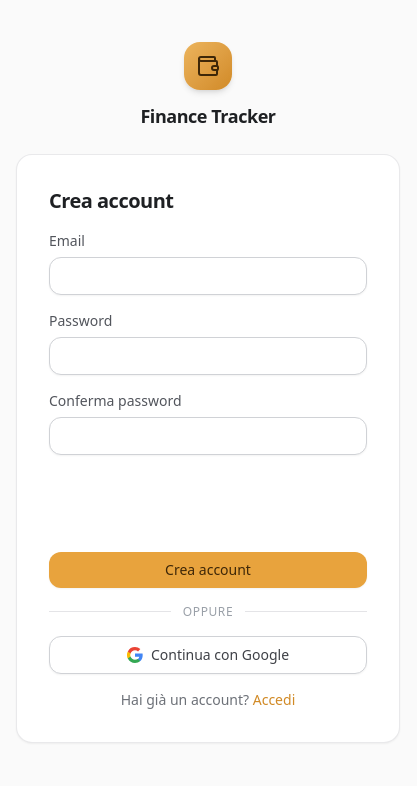
it: RegisterPage › shows error when passwords do not match
The image size is (417, 786).
Type "user@example.com" into the field labelled "Email". click: (208, 276)
box: [49, 256, 367, 294]
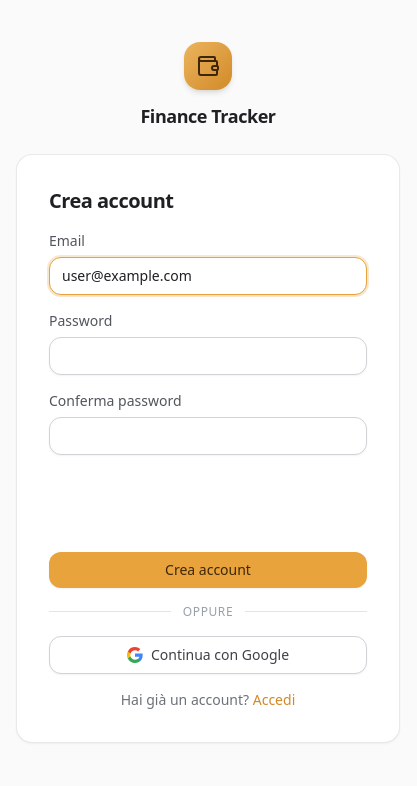
Type "password123" into the password field labelled "Password". click: (208, 356)
box: [49, 336, 367, 374]
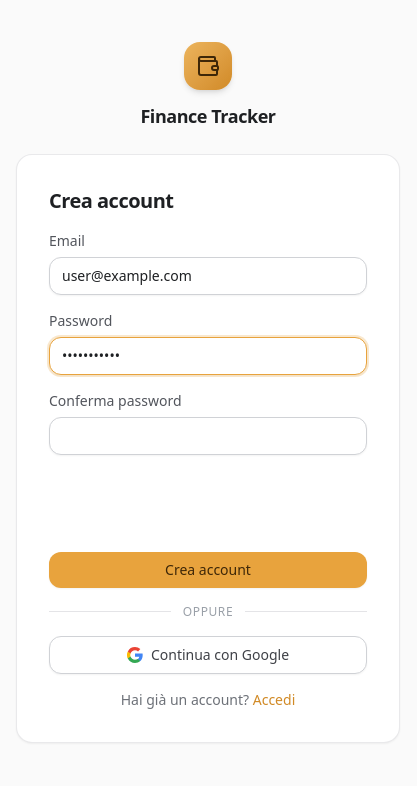
Type "different1" into the password field labelled "Conferma password". click: (208, 436)
box: [49, 416, 367, 454]
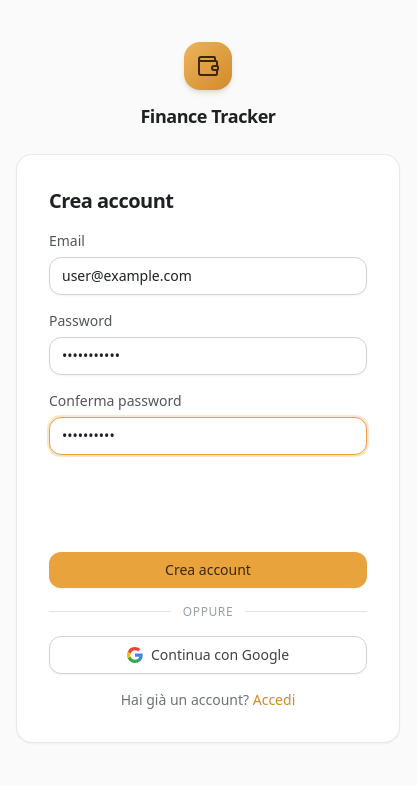
Click the button "Crea account". click: (208, 570)
box: [49, 552, 367, 588]
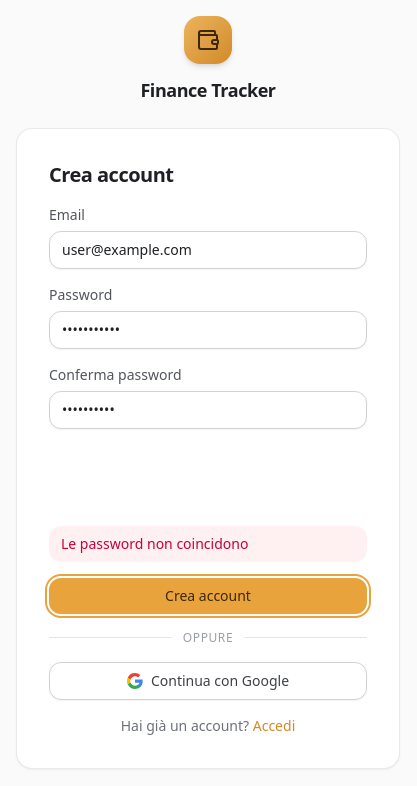
Expected: the text "Le password non coincidono" is shown, [49, 526, 367, 562]
